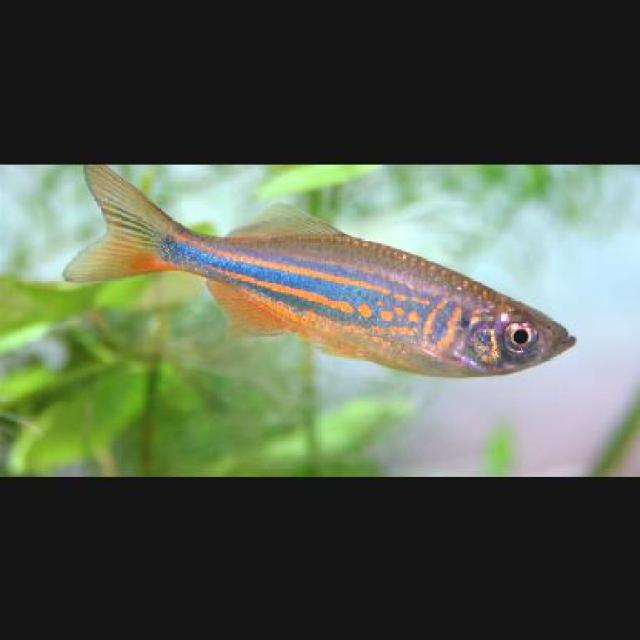ZebraFish: (64, 162, 579, 376)
